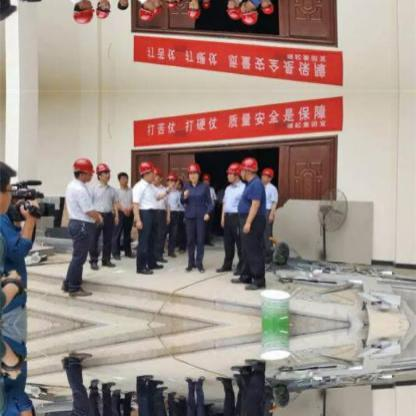head: (0, 155, 19, 214), (0, 0, 19, 26), (116, 171, 129, 188), (115, 0, 129, 11)
helmet: (70, 156, 93, 184), (69, 0, 93, 25), (137, 160, 158, 184), (136, 0, 158, 21), (238, 156, 257, 180), (238, 0, 257, 24), (185, 164, 202, 186), (93, 162, 110, 184), (257, 166, 275, 186), (92, 0, 110, 19), (225, 162, 239, 184), (184, 0, 202, 17), (257, 0, 276, 16), (225, 0, 240, 19), (164, 171, 176, 188), (151, 166, 162, 184), (150, 0, 162, 15), (164, 0, 177, 11)
